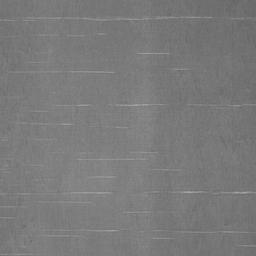Waist folding: (0, 102, 256, 256), (0, 14, 256, 38), (0, 50, 206, 78), (221, 139, 256, 144)
